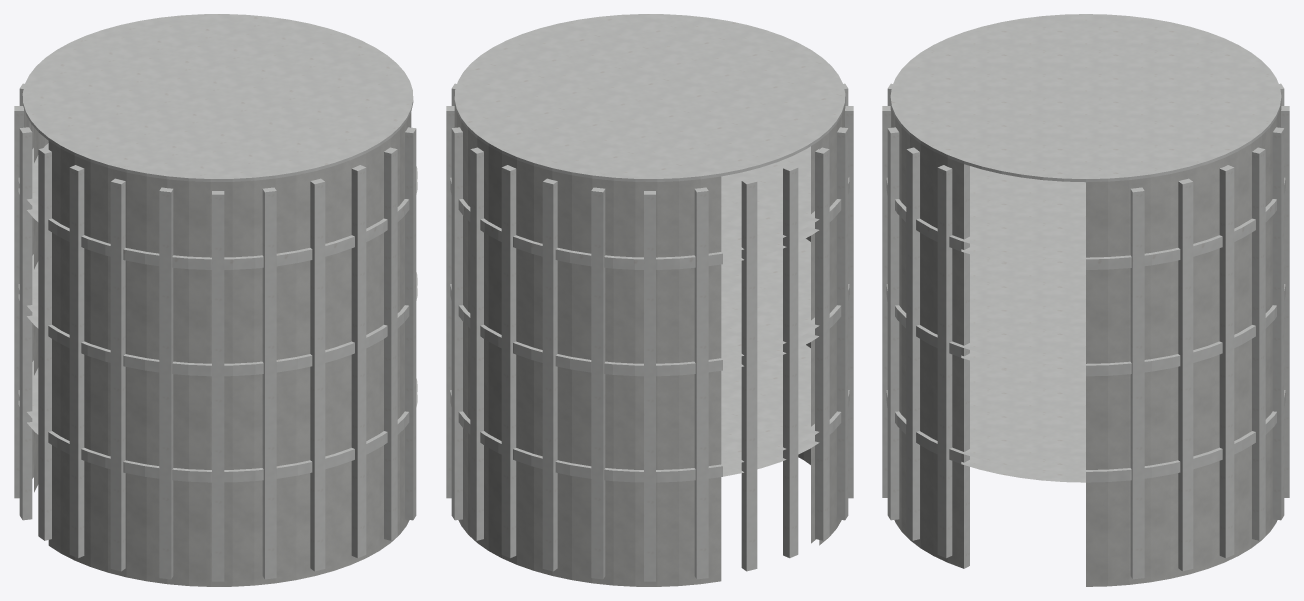
The model's file is sh_drum.gltf.
3 views of the same model, side by side, from view 1: azimuth 30°, elevation 25°; view 2: azimuth 150°, elevation 25°; view 3: azimuth 270°, elevation 25° (orthographic).
Visible parts, largest first — view 1: sh_drum; view 2: sh_drum; view 3: sh_drum.
Part boxes in pixels (bbox=[...]): sh_drum: bbox=[14, 14, 417, 586]; sh_drum: bbox=[446, 14, 853, 586]; sh_drum: bbox=[882, 14, 1289, 586].
Bounding box in the file's own units: 14.46 × 16.12 × 14.6.
Materials: 2 (2 with a texture image).
